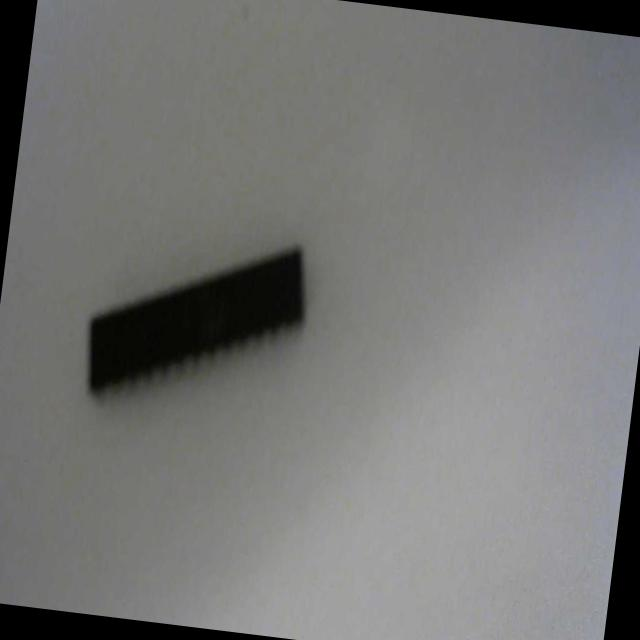atmega: (77, 215, 316, 423)
